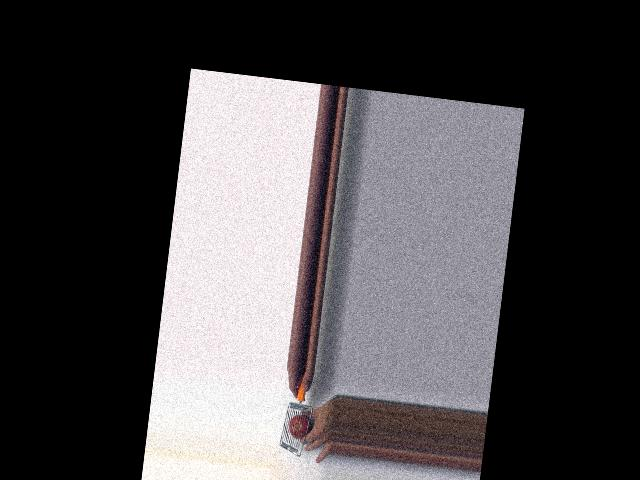tomato: (287, 412, 312, 439)
